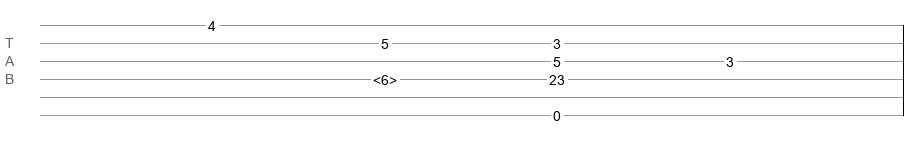0: (553, 108, 561, 118)
23: (549, 72, 565, 82)
3: (553, 36, 561, 46), (726, 54, 734, 64)
4: (208, 18, 216, 28)
5: (381, 36, 389, 46), (553, 54, 561, 64)
harmonic: (373, 72, 397, 82)
